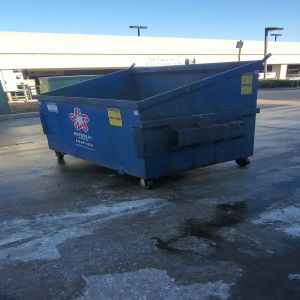Dumpster: (39, 61, 267, 191)
